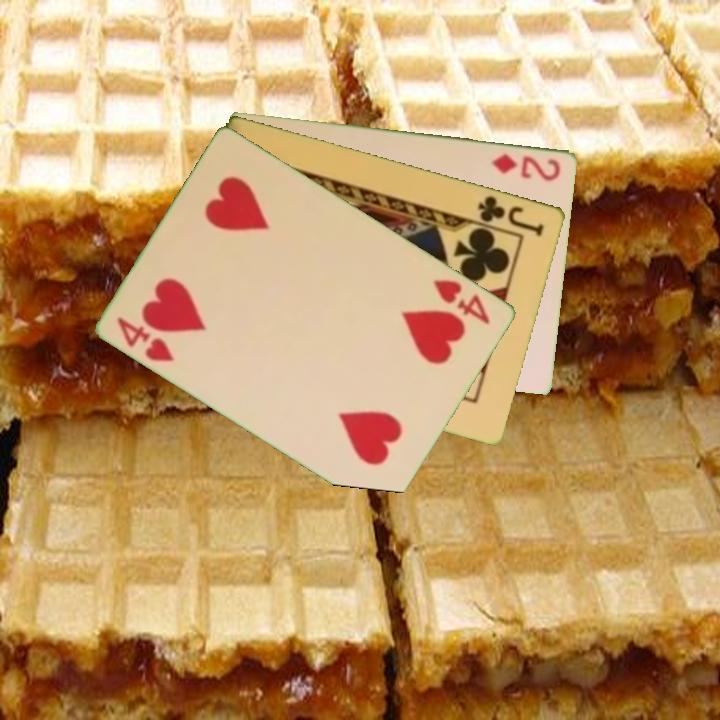2d: (489, 150, 564, 184)
4h: (430, 275, 494, 328), (114, 313, 178, 365)
Jc: (475, 192, 548, 239)
